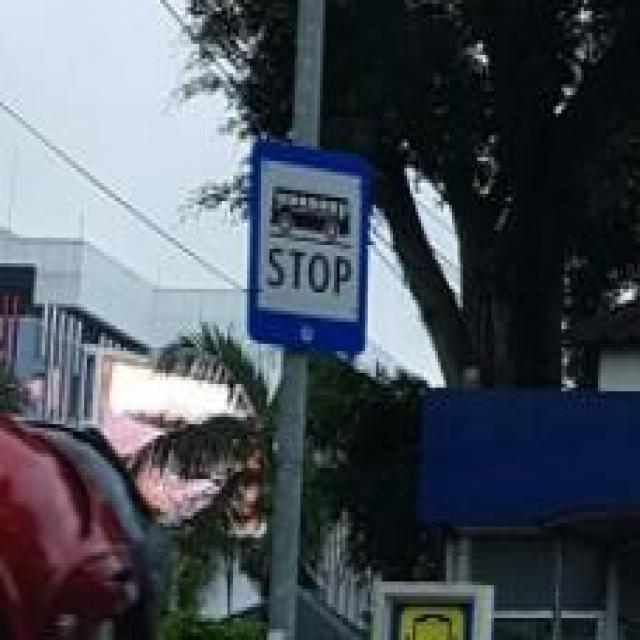traffic sign: (250, 139, 370, 355)
